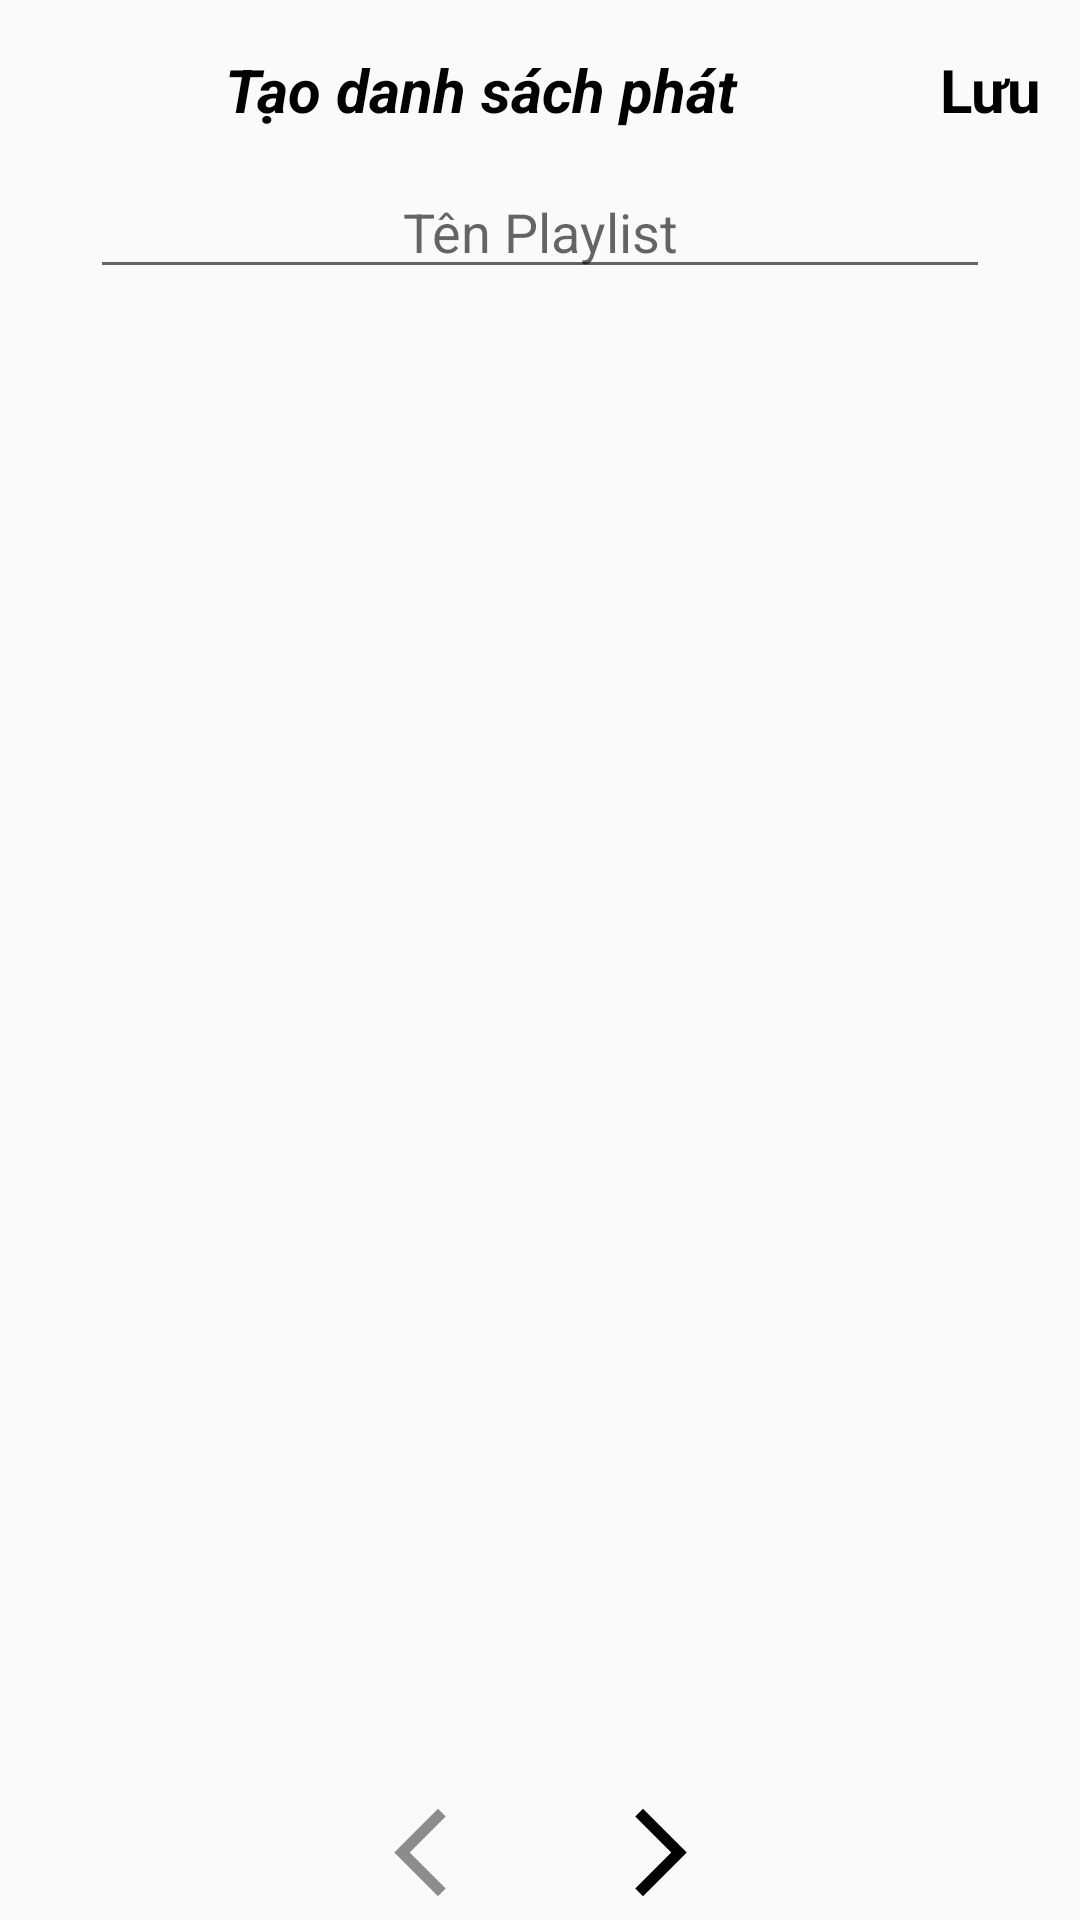

Where icons sit on this 1080x1920 app screen, as (x1, y1, x2, y2):
arrow back: (394, 1809, 446, 1896)
arrow forward: (635, 1809, 687, 1896)
